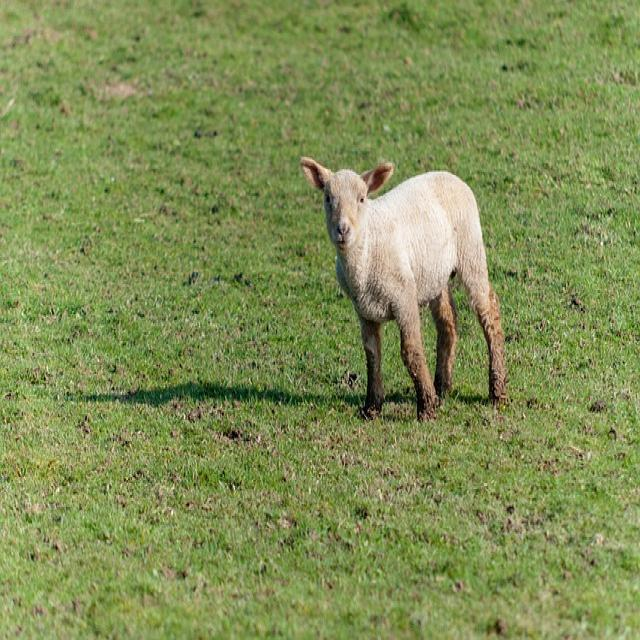sheep: (299, 154, 508, 423)
